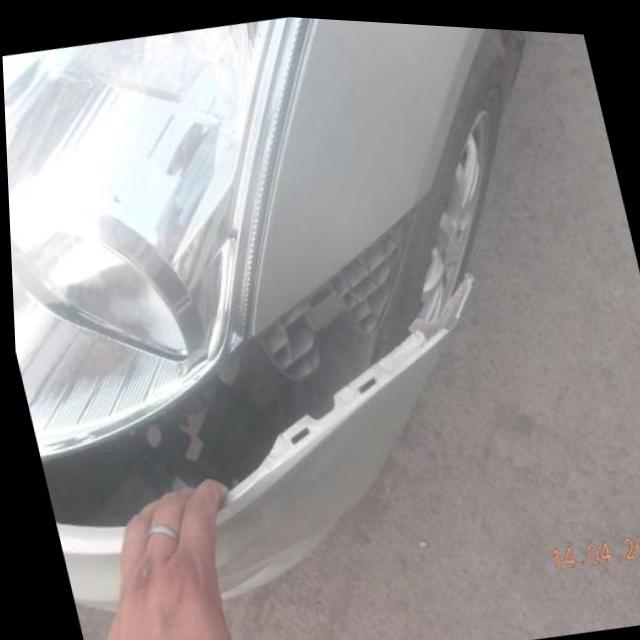Car-Damage: (6, 161, 521, 560)
